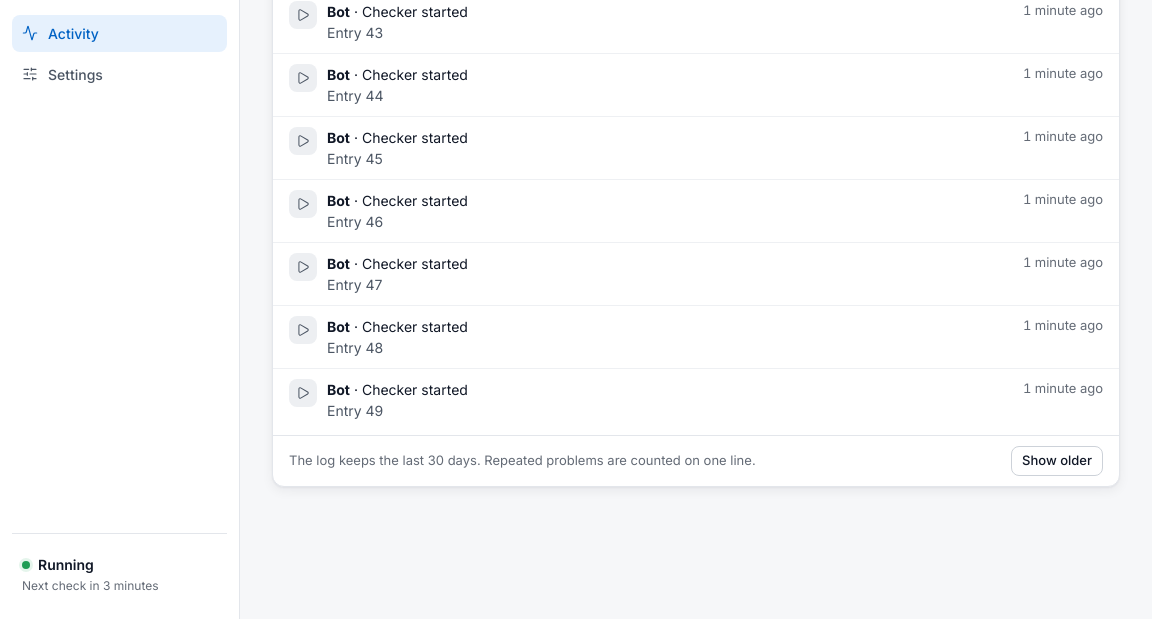
Test: activity › loads older entries on request
(page scrolled)
expect the text "Entry 49" is shown: met, box [327, 402, 383, 418]
Click the button "Show older": (1057,460) [1011, 446, 1103, 476]
(page scrolled)
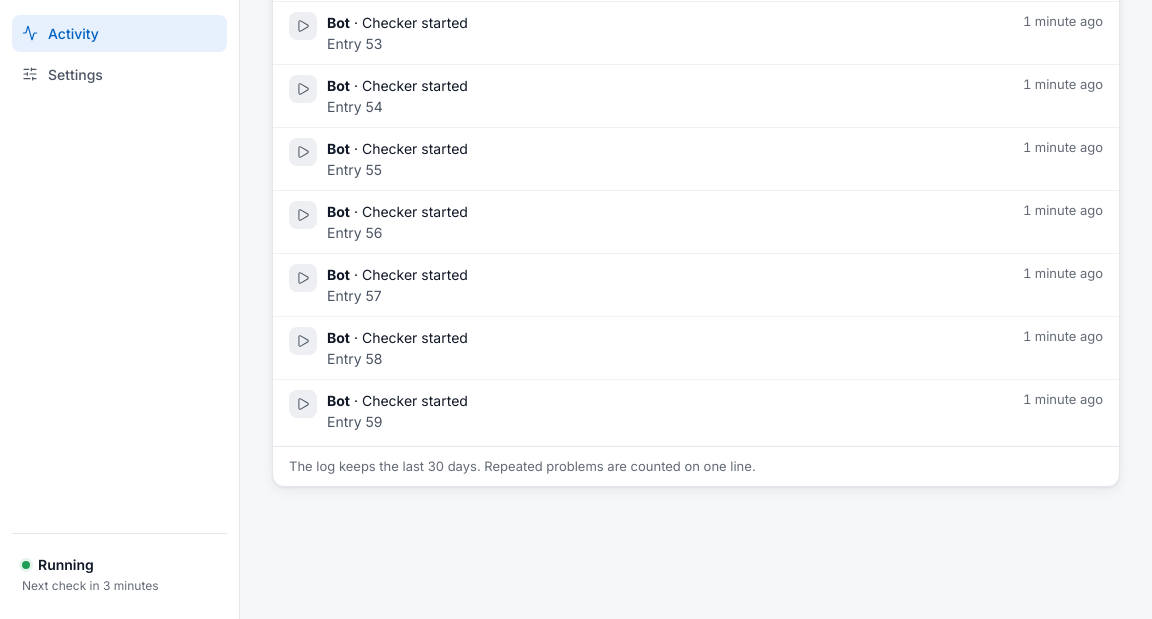
expect the text "Entry 59" is shown: met, box [327, 412, 383, 430]
expect the button "Show older" is gone: met
